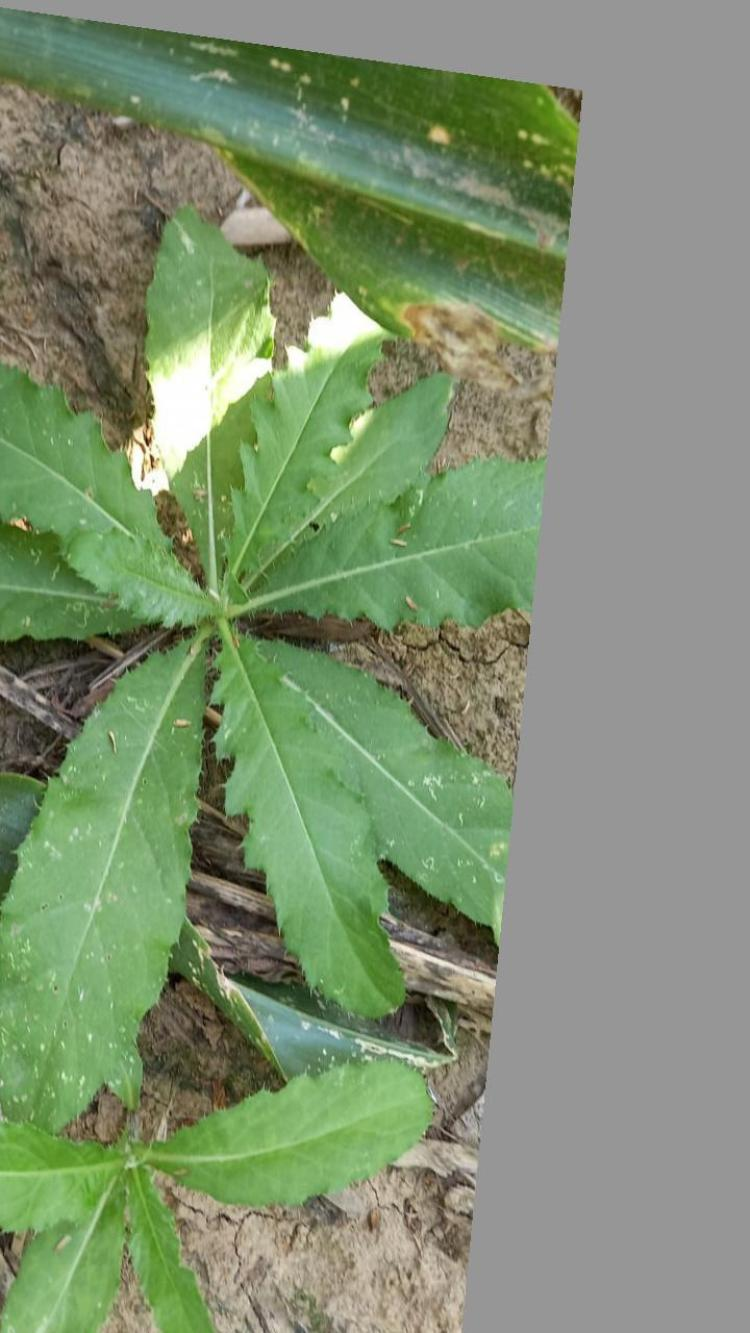osot: (0, 194, 546, 1137)
